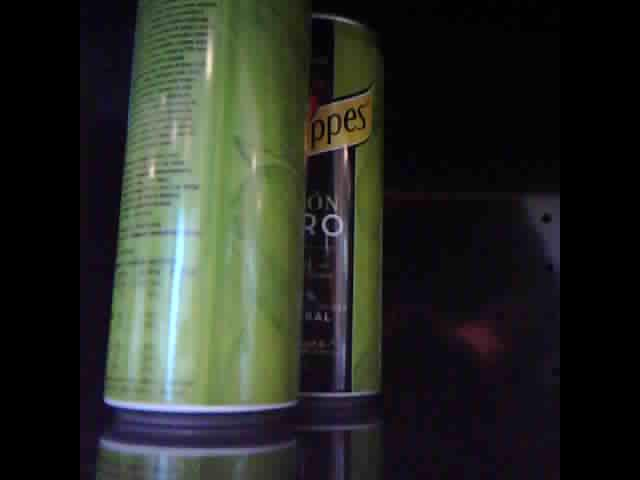schweppes: (104, 1, 310, 427), (294, 7, 381, 407)
